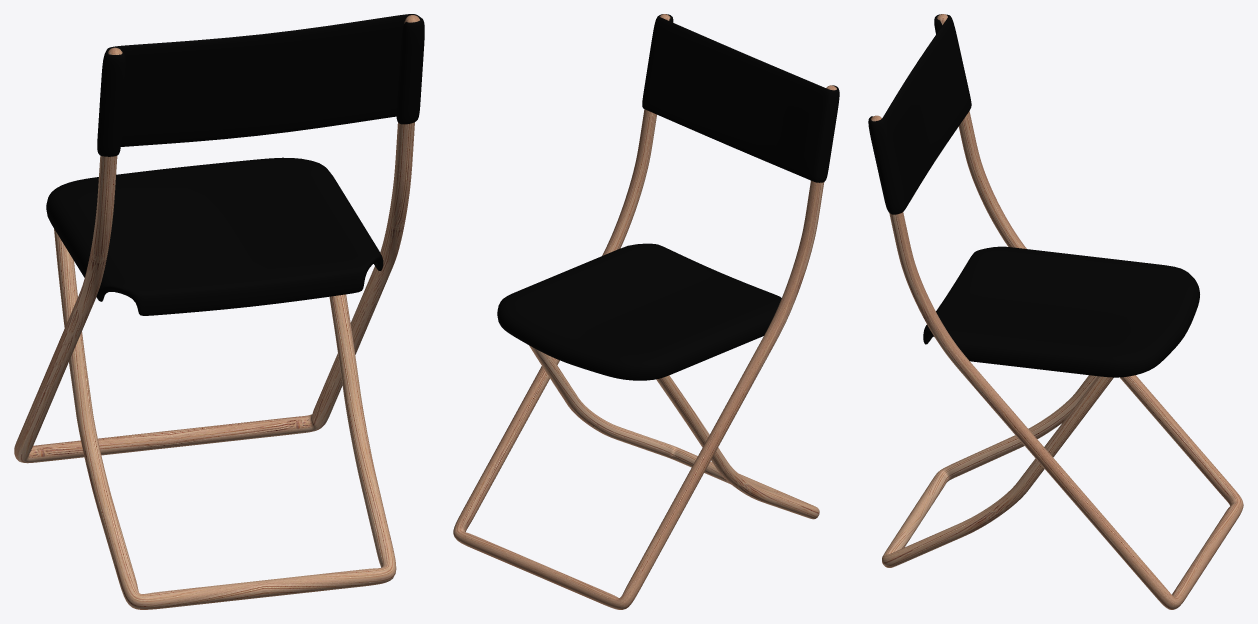
File: ChairFoldable.fbx
3 views of the same model, side by side, from view 1: azimuth 30°, elevation 25°; view 2: azimuth 150°, elevation 25°; view 3: azimuth 270°, elevation 25° (orthographic). The views are drawn at different scales.
Visible parts, largest first — view 1: Plane.016, Plane.015, Cube.017, Cube.016; view 2: Plane.016, Plane.015, Cube.017, Cube.016; view 3: Plane.016, Cube.017, Plane.015, Cube.016.
Boxes of the visible parts, x1=… form: Plane.016: x1=46, y1=157, x2=383, y2=315; Plane.015: x1=97, y1=14, x2=424, y2=156; Cube.017: x1=14, y1=15, x2=419, y2=463; Cube.016: x1=54, y1=229, x2=396, y2=609; Plane.016: x1=497, y1=243, x2=781, y2=380; Plane.015: x1=642, y1=14, x2=839, y2=182; Cube.017: x1=453, y1=14, x2=836, y2=609; Cube.016: x1=529, y1=345, x2=819, y2=519; Plane.016: x1=923, y1=246, x2=1199, y2=377; Cube.017: x1=871, y1=14, x2=1243, y2=609; Plane.015: x1=868, y1=14, x2=971, y2=214; Cube.016: x1=882, y1=375, x2=1113, y2=567.
Size of the model in its own units: 61.59 by 93.43 by 68.79.
